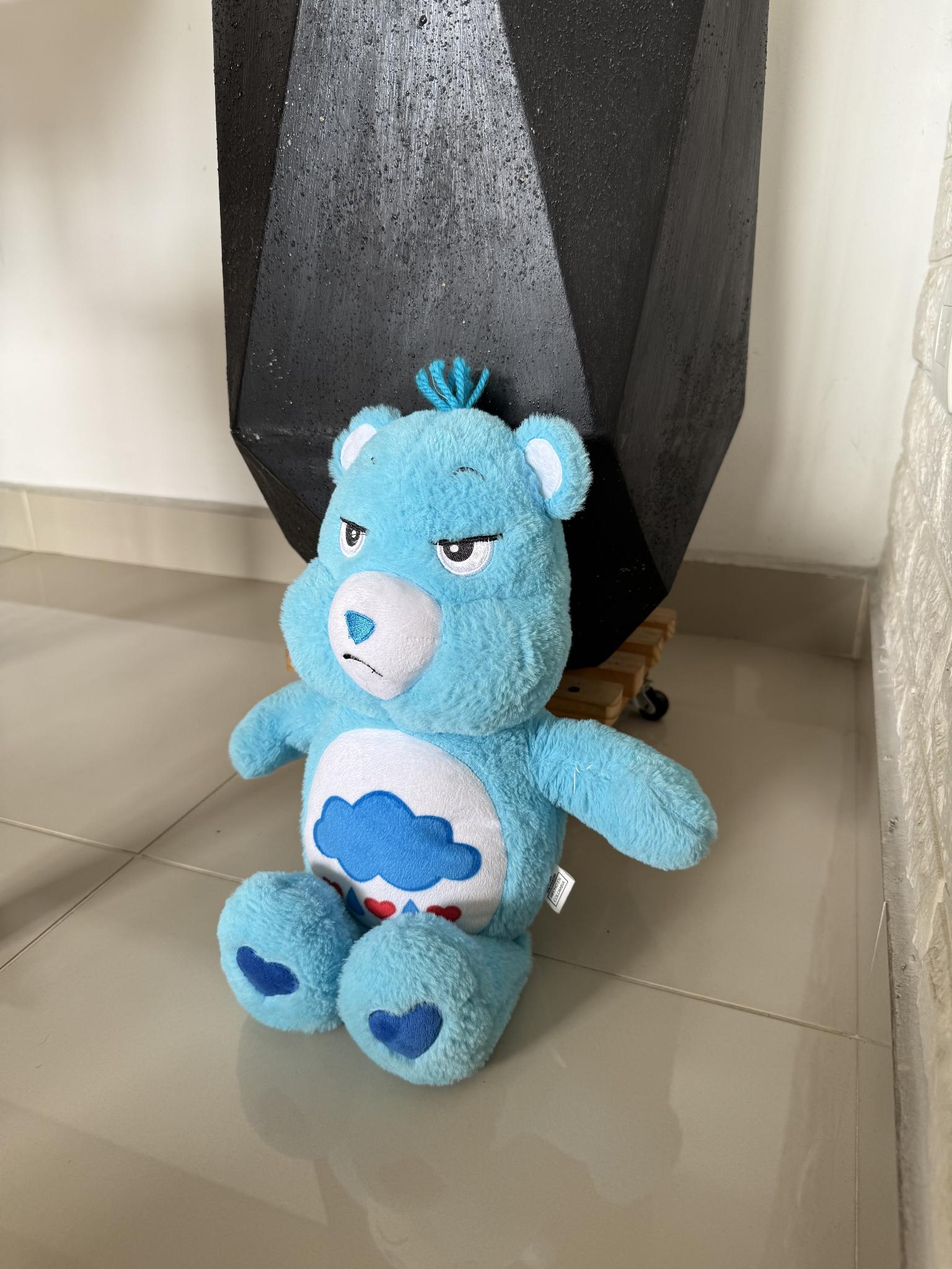peluche_Juan Jose: (216, 353, 715, 1089)
